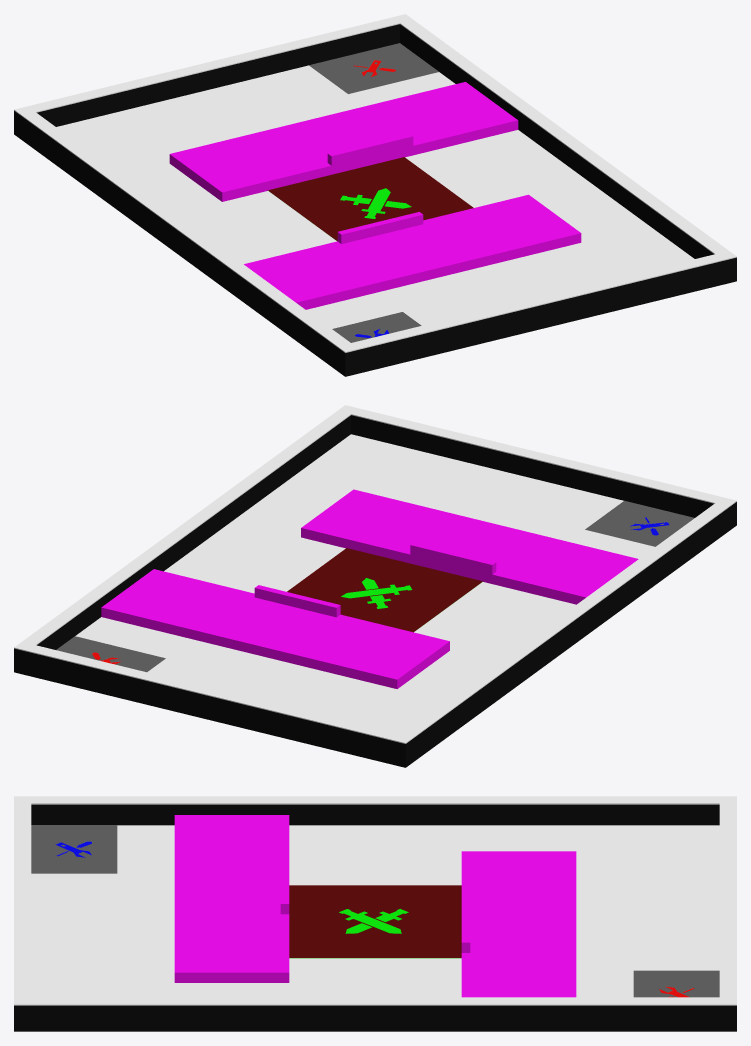
Rendered from rmul_20260.dae.
3 renders of one model, top to bottom at view 1: azimuth 30°, elevation 25°; view 2: azimuth 150°, elevation 25°; view 3: azimuth 270°, elevation 25°, orthographic. The views are drawn at different scales.
Parts seen in each view (by area): view 1: SOLID, SHELL; view 2: SOLID, SHELL; view 3: SOLID, SHELL.
Part boxes in pixels (bbox=[...]): SOLID: bbox=[14, 24, 736, 376]; SHELL: bbox=[14, 14, 736, 352]; SOLID: bbox=[14, 415, 736, 767]; SHELL: bbox=[14, 405, 736, 743]; SOLID: bbox=[14, 804, 736, 1031]; SHELL: bbox=[14, 796, 736, 1005].
Bounding box in the file's own units: 8.6 × 12.6 × 0.52.
